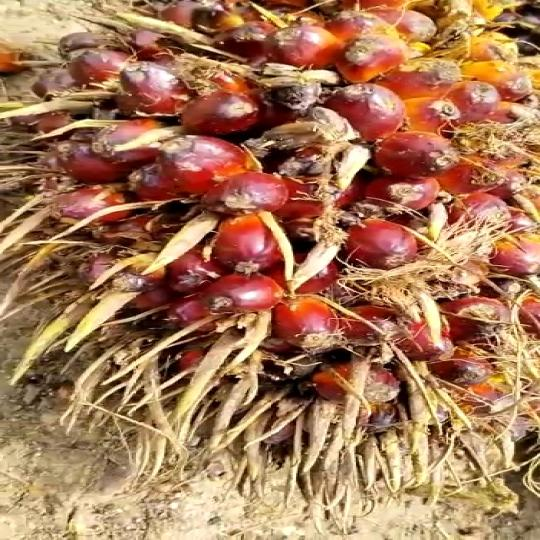masak: (0, 0, 540, 472)
